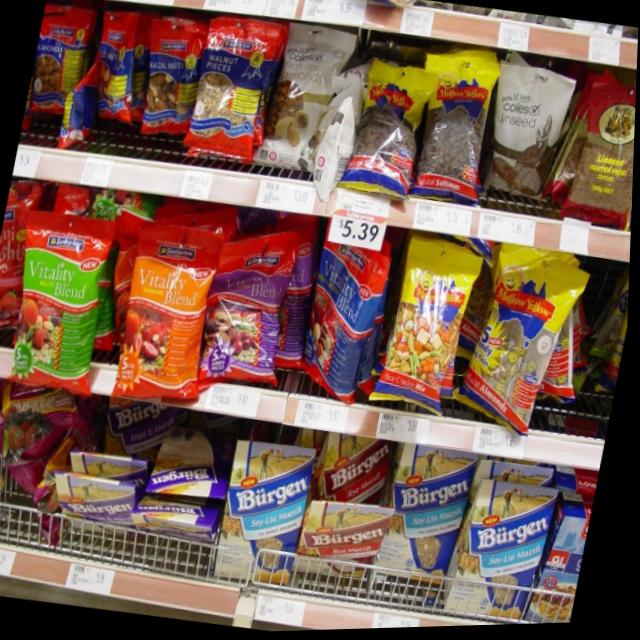q274: (0, 204, 126, 395)
